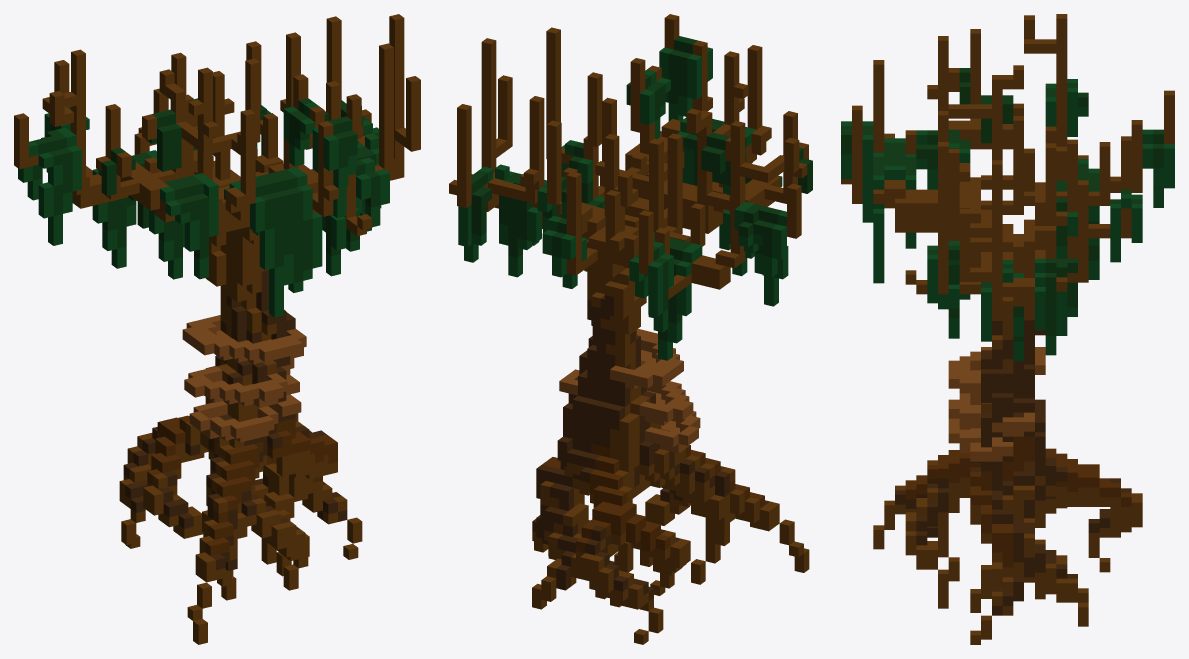
Rendered from tree -3.obj.
3 renders of one model, left to right at view 1: azimuth 30°, elevation 25°; view 2: azimuth 150°, elevation 25°; view 3: azimuth 270°, elevation 25°, orthographic. The views are drawn at different scales.
Bounding box in the file's own units: 3.7 × 5.4 × 3.1.
1 material, 1 textured.
